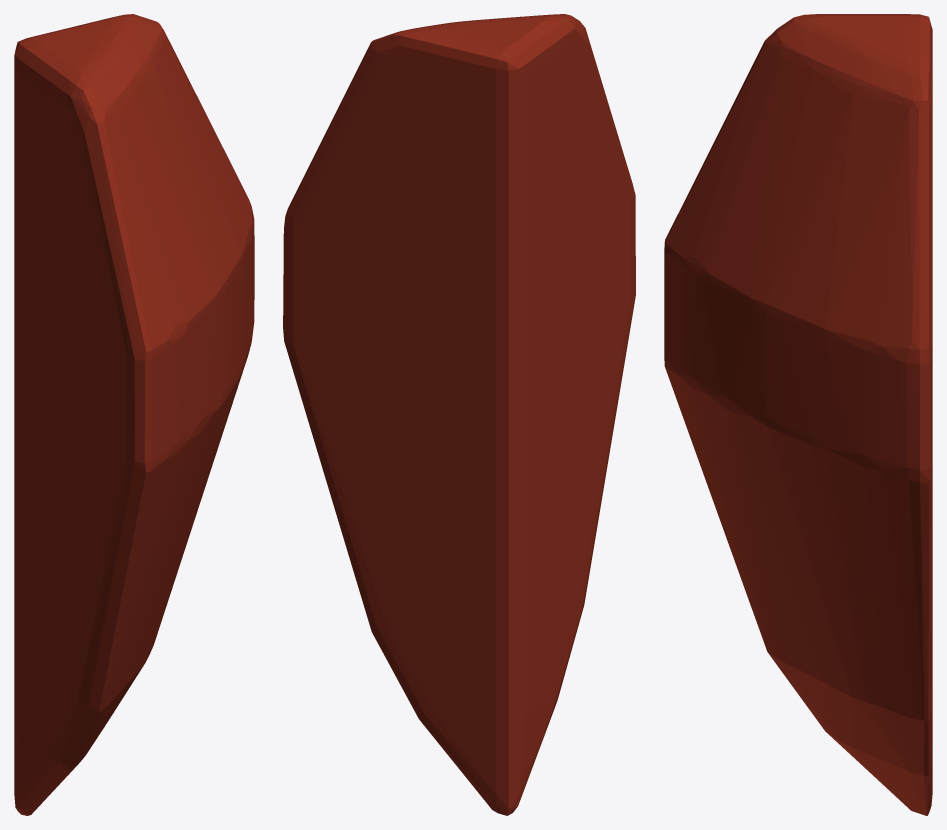
The model's file is left_hip_roll_link_part_15.obj.
3 renders of one model, left to right at view 1: azimuth 30°, elevation 25°; view 2: azimuth 150°, elevation 25°; view 3: azimuth 270°, elevation 25°, orthographic. The views are drawn at different scales.
Size of the model in its own units: 0.0242 by 0.0747 by 0.0228.
